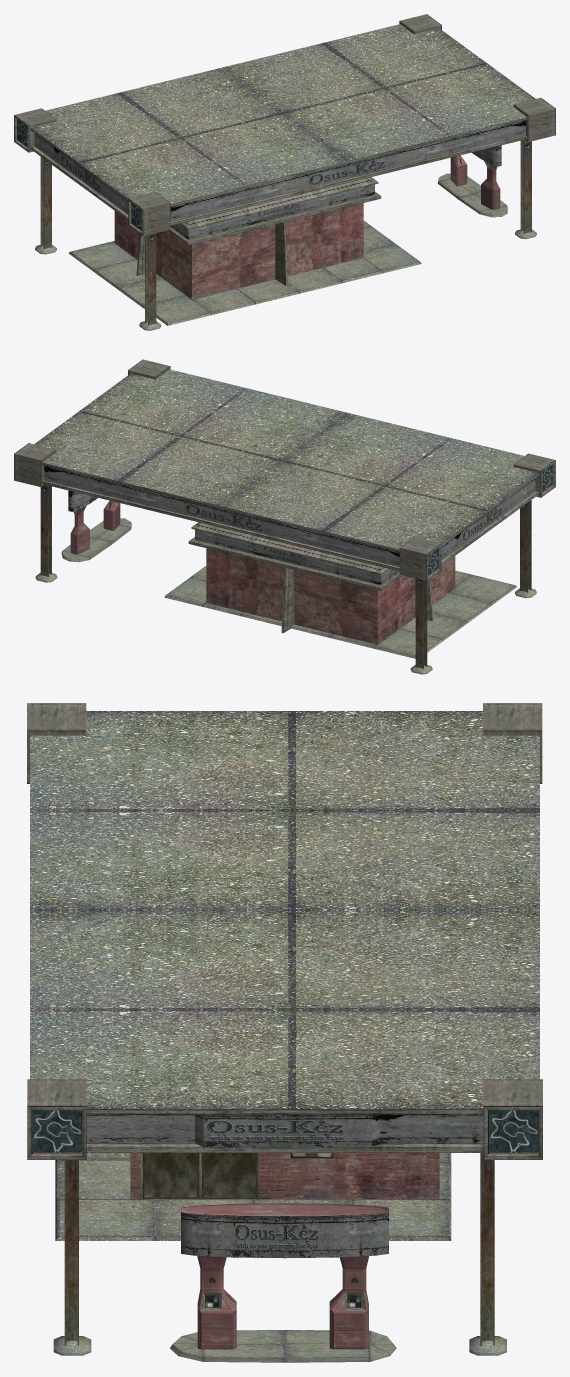
The model's file is GasStation_2.fbx.
3 renders of one model, top to bottom at view 1: azimuth 30°, elevation 25°; view 2: azimuth 150°, elevation 25°; view 3: azimuth 270°, elevation 25°, orthographic. The views are drawn at different scales.
Visible parts, largest first — view 1: GasStation_2; view 2: GasStation_2; view 3: GasStation_2.
Boxes of the visible parts, bbox=[...] form: GasStation_2: bbox=[14, 14, 555, 330]; GasStation_2: bbox=[14, 359, 555, 674]; GasStation_2: bbox=[27, 703, 542, 1362].
Size of the model in its own units: 1609 by 484 by 871.
